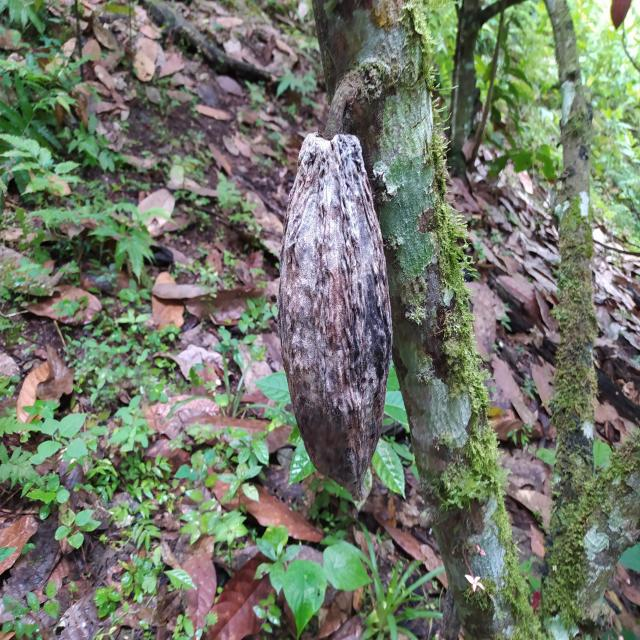Fitoftora: (277, 130, 397, 505)
